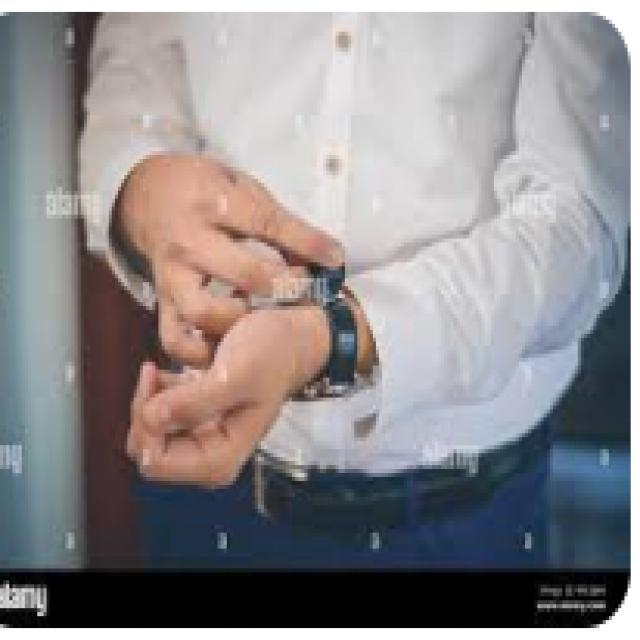Watch: (305, 253, 358, 406)
